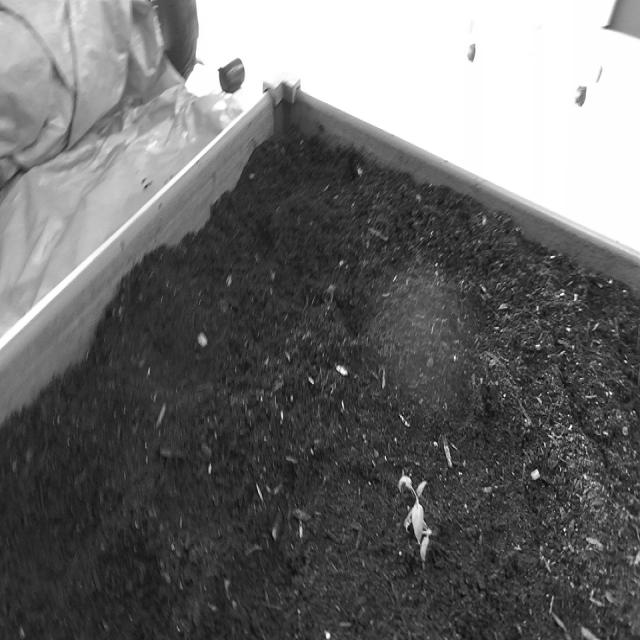Healthy: (398, 473, 434, 569)
